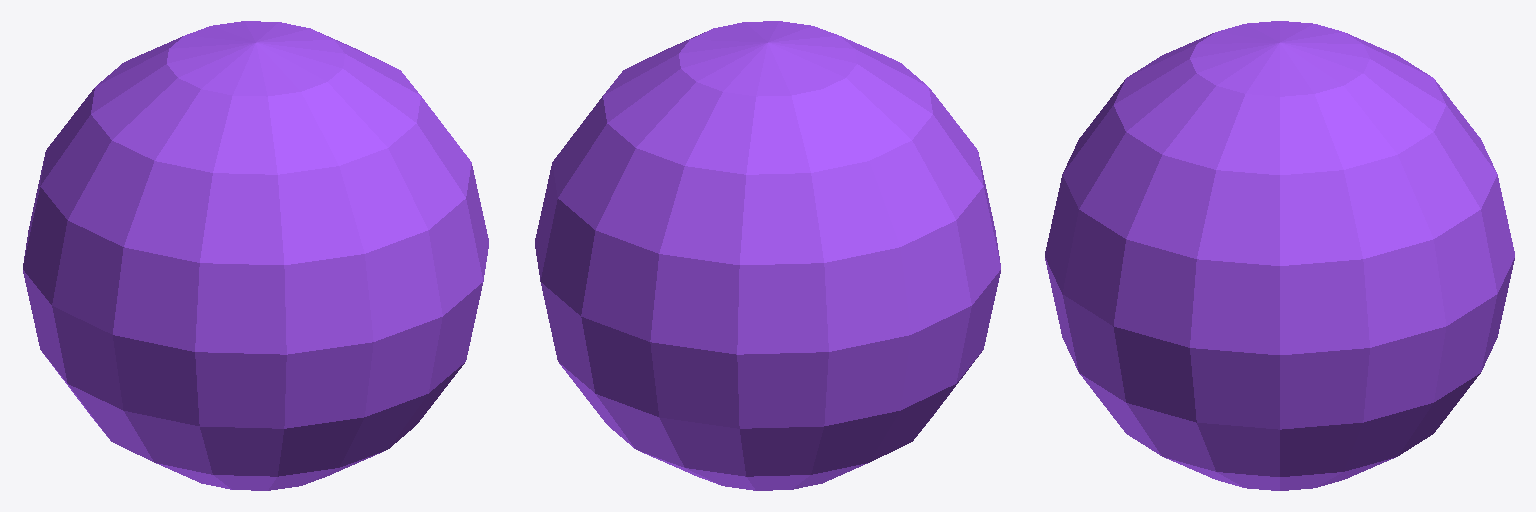
Rendered from ballpurple.obj.
3 renders of one model, left to right at view 1: azimuth 30°, elevation 25°; view 2: azimuth 150°, elevation 25°; view 3: azimuth 270°, elevation 25°, orthographic.
Parts seen in each view (by area): view 1: Sphere; view 2: Sphere; view 3: Sphere.
Part boxes in pixels (x1,y1,x2,y2): Sphere: (23, 21, 488, 490); Sphere: (535, 21, 1000, 490); Sphere: (1045, 21, 1514, 490).
Bounding box in the file's own units: 2 × 2 × 2.